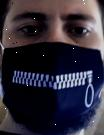with_mask: (2, 2, 104, 135)
